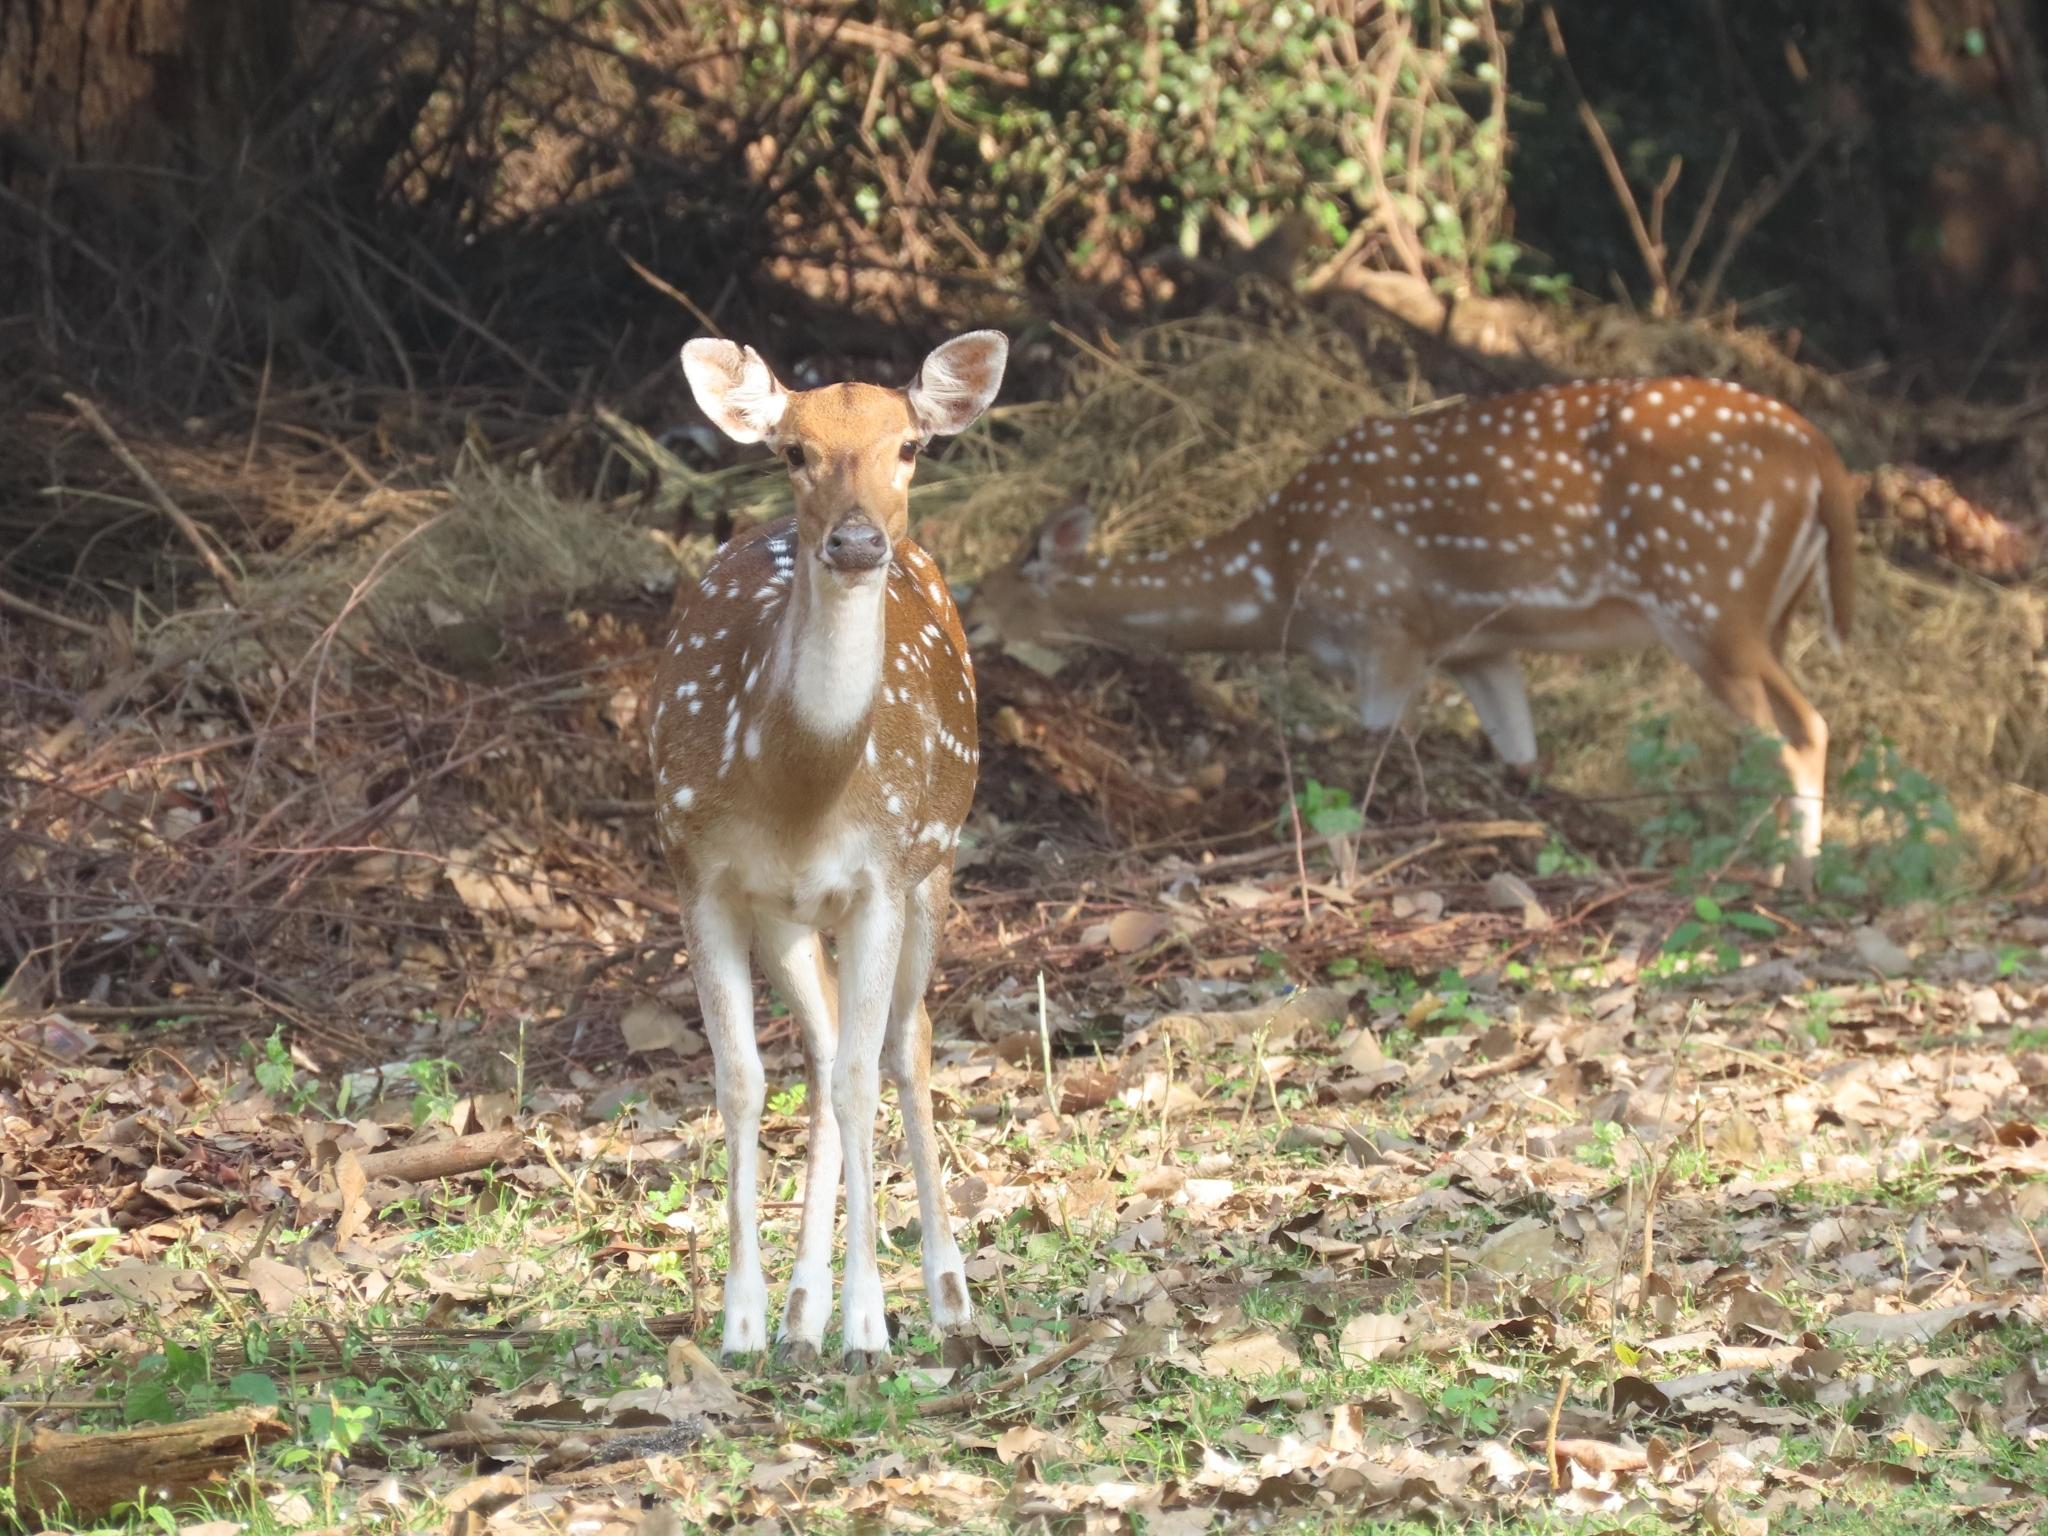Deer: (971, 378, 1856, 868), (651, 334, 1006, 1354)
